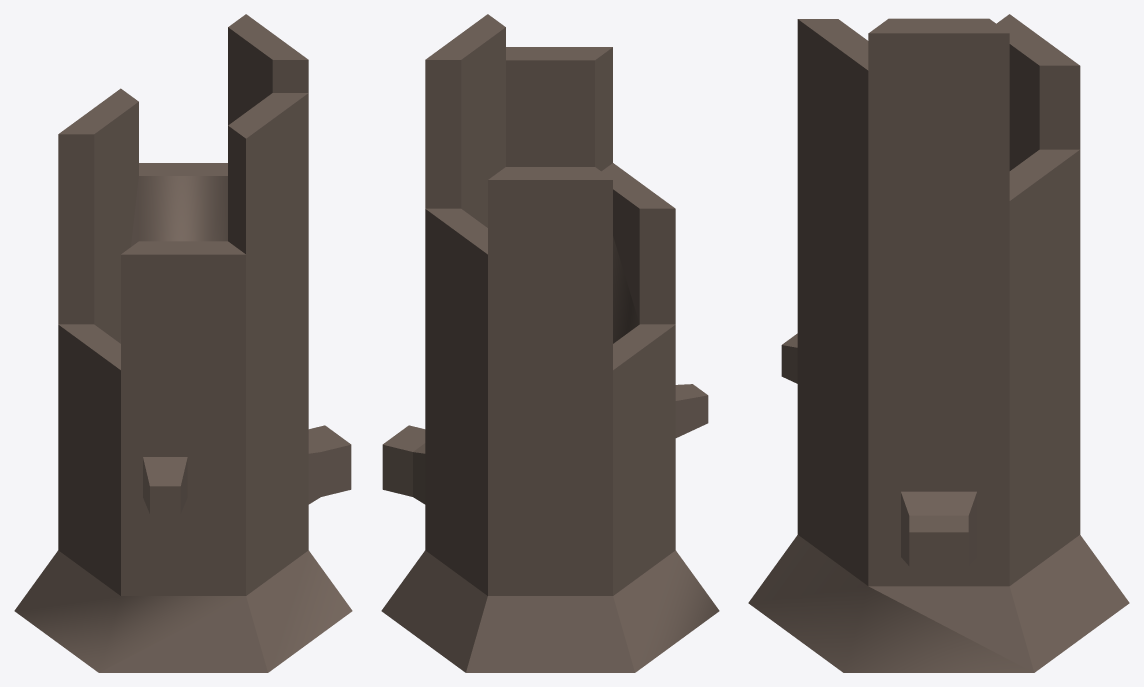
File: stump.glb
3 views of the same model, side by side, from view 1: azimuth 30°, elevation 25°; view 2: azimuth 150°, elevation 25°; view 3: azimuth 270°, elevation 25° (orthographic). The views are drawn at different scales.
Parts seen in each view (by area): view 1: stump; view 2: stump; view 3: stump.
Boxes of the visible parts, left/top/right/bottom form: stump: left=14, top=14, right=352, bottom=672; stump: left=381, top=14, right=719, bottom=672; stump: left=748, top=14, right=1129, bottom=672.
Bounding box in the file's own units: 1.07 × 2 × 1.11.
